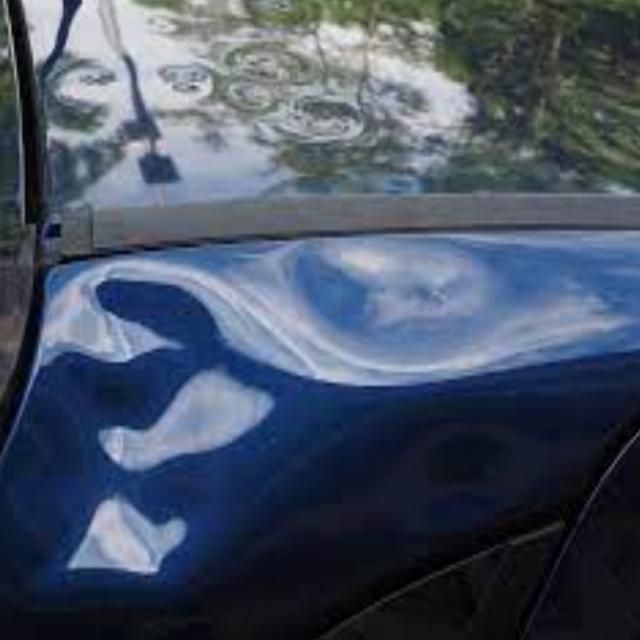dents: (45, 270, 246, 580), (269, 246, 601, 390)
